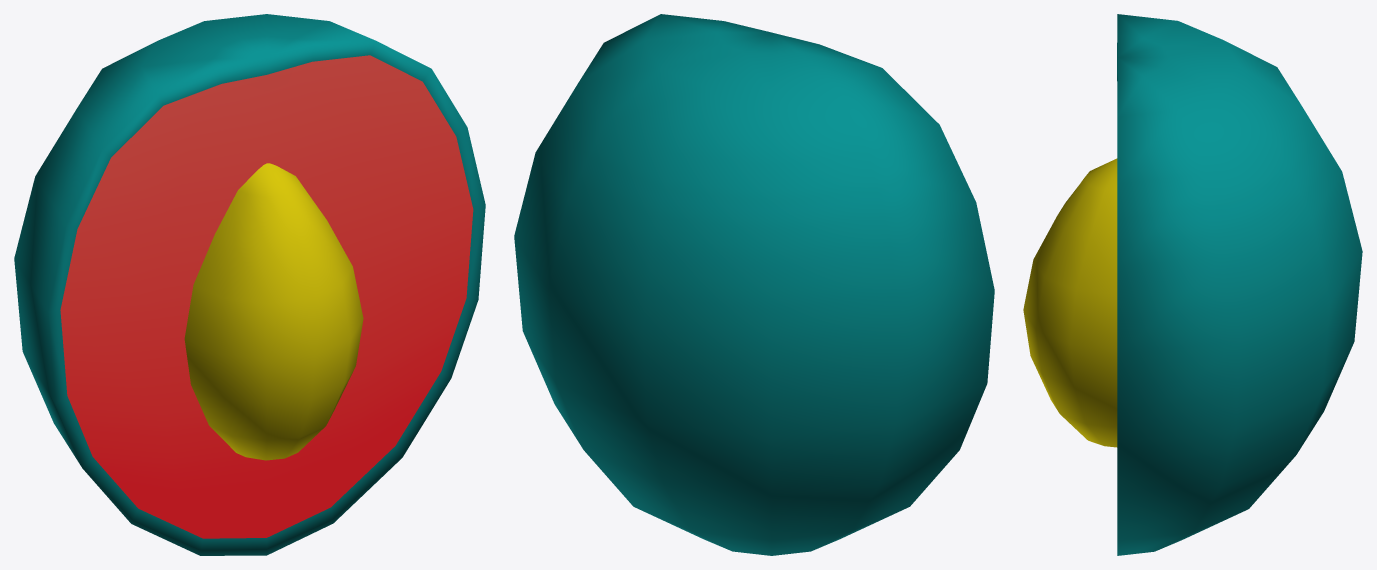
File: Plum_half_02.fbx
3 views of the same model, side by side, from view 1: azimuth 30°, elevation 25°; view 2: azimuth 150°, elevation 25°; view 3: azimuth 270°, elevation 25° (orthographic). The views are drawn at different scales.
Parts seen in each view (by area): view 1: Plum_half_02; view 2: Plum_half_02; view 3: Plum_half_02.
Boxes of the visible parts, box(x1,y1,x2,y2) form: Plum_half_02: box(14, 14, 485, 555); Plum_half_02: box(514, 14, 994, 555); Plum_half_02: box(1023, 14, 1362, 555).
Bounding box in the file's own units: 72.29 × 78.38 × 49.98.
